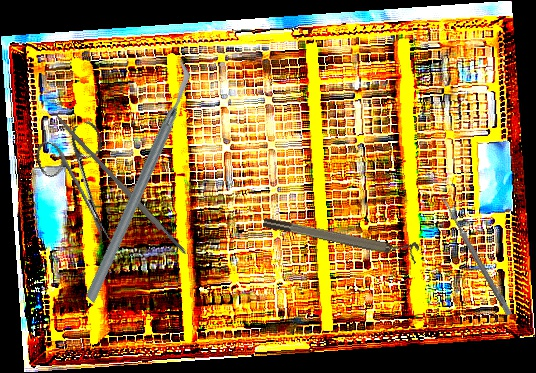Chopper: (10, 57, 264, 305)
Fixation Ring: (262, 208, 420, 265)
Iris Scissors: (30, 118, 139, 254)
Scalpel Handle: (52, 112, 189, 258)
Surgical Spoon: (438, 194, 514, 317)
